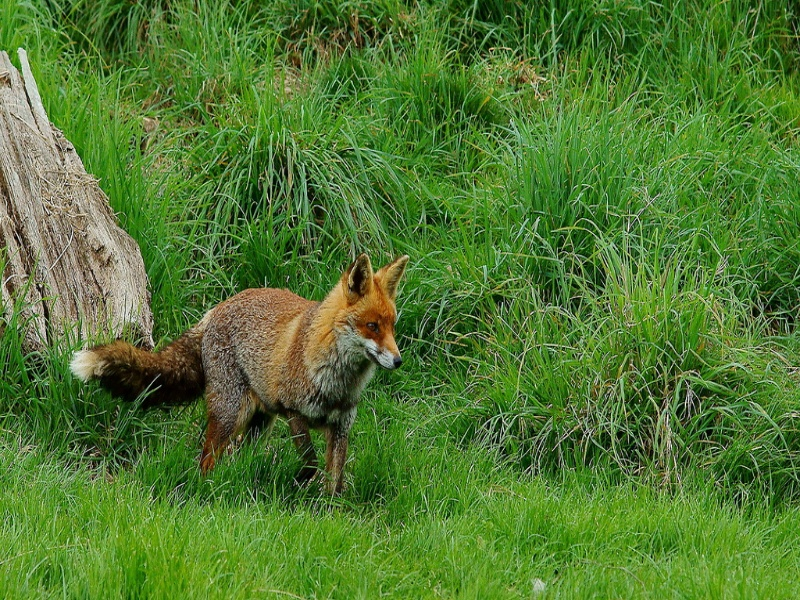fox: (65, 248, 411, 509)
